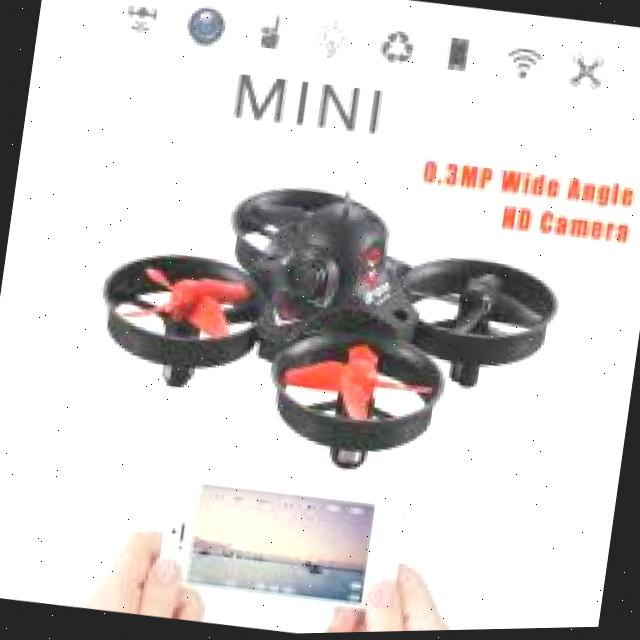drone: (70, 140, 598, 522)
